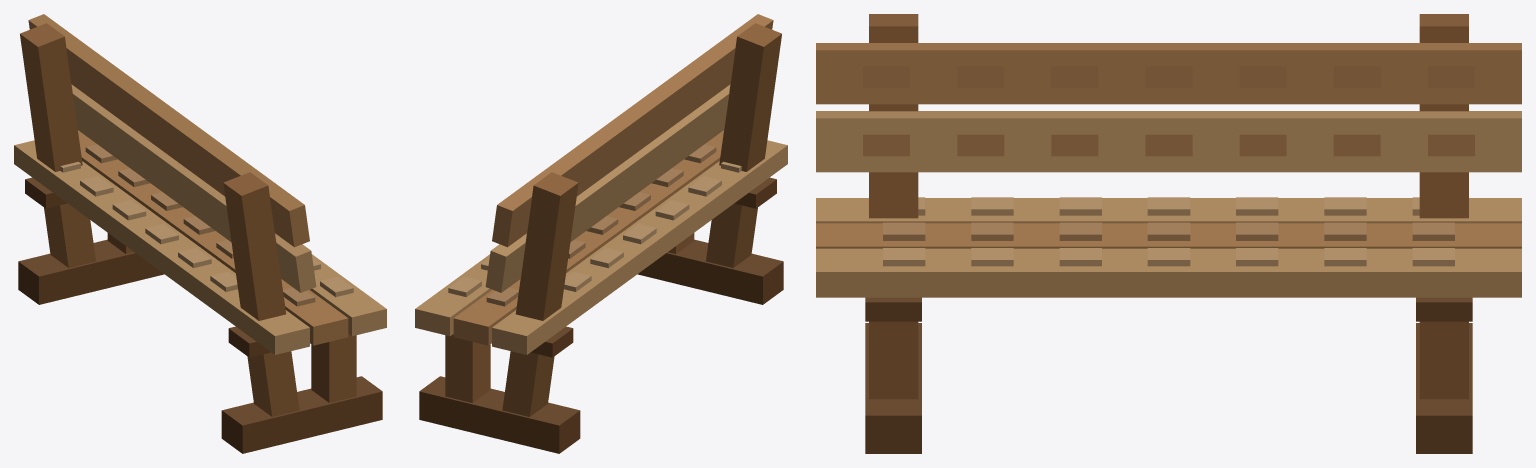
The model's file is bench.glb.
3 renders of one model, left to right at view 1: azimuth 30°, elevation 25°; view 2: azimuth 150°, elevation 25°; view 3: azimuth 270°, elevation 25°, orthographic. The views are drawn at different scales.
Visible parts, largest first — view 1: bench; view 2: bench; view 3: bench.
Part boxes in pixels (x1,y1,x2,y2): bench: (14,14,386,453); bench: (415,14,787,453); bench: (816,14,1521,453).
Size of the model in its own units: 0.62 by 1.1 by 2.
